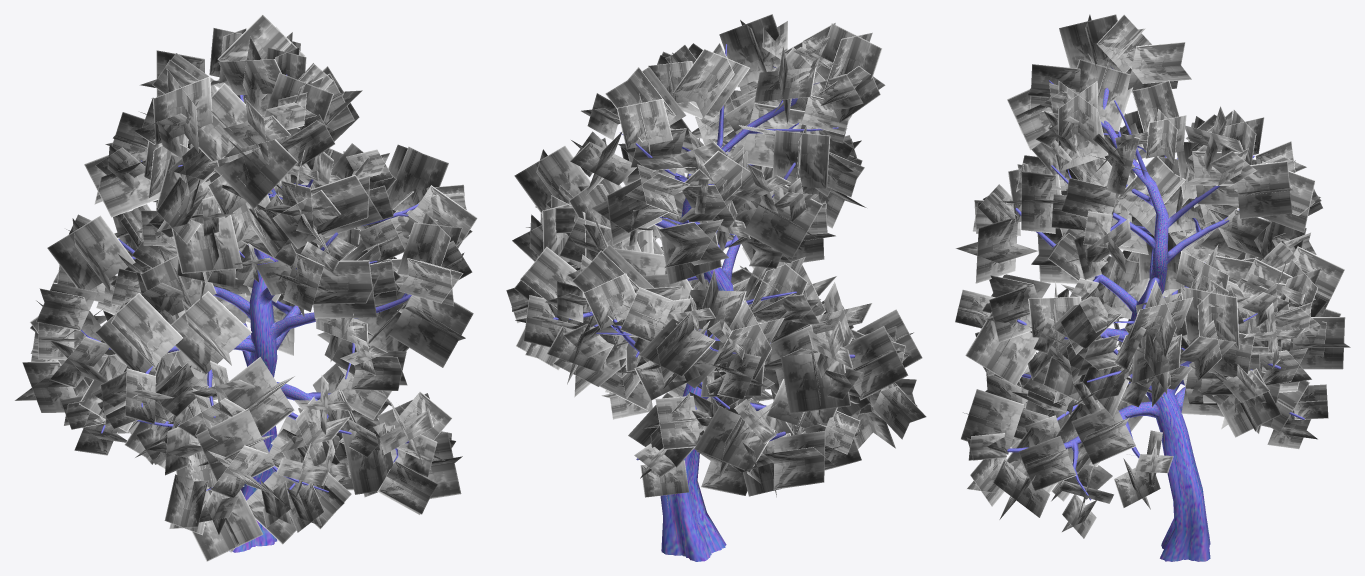
Rendered from tree2.fbx.
3 renders of one model, left to right at view 1: azimuth 30°, elevation 25°; view 2: azimuth 150°, elevation 25°; view 3: azimuth 270°, elevation 25°, orthographic. The views are drawn at different scales.
Visible parts, largest first — view 1: pasted__Tree_1, Tree_0; view 2: pasted__Tree_1, Tree_0; view 3: pasted__Tree_1, Tree_0.
Boxes of the visible parts, left/top/right/bottom form: pasted__Tree_1: left=14, top=14, right=477, bottom=561; Tree_0: left=81, top=74, right=418, bottom=552; pasted__Tree_1: left=506, top=14, right=926, bottom=507; Tree_0: left=553, top=44, right=855, bottom=561; pasted__Tree_1: left=955, top=14, right=1350, bottom=538; Tree_0: left=1007, top=66, right=1304, bottom=561.
Bounding box in the file's own units: 21.49 × 27.35 × 20.08.
2 materials, 2 textured.
